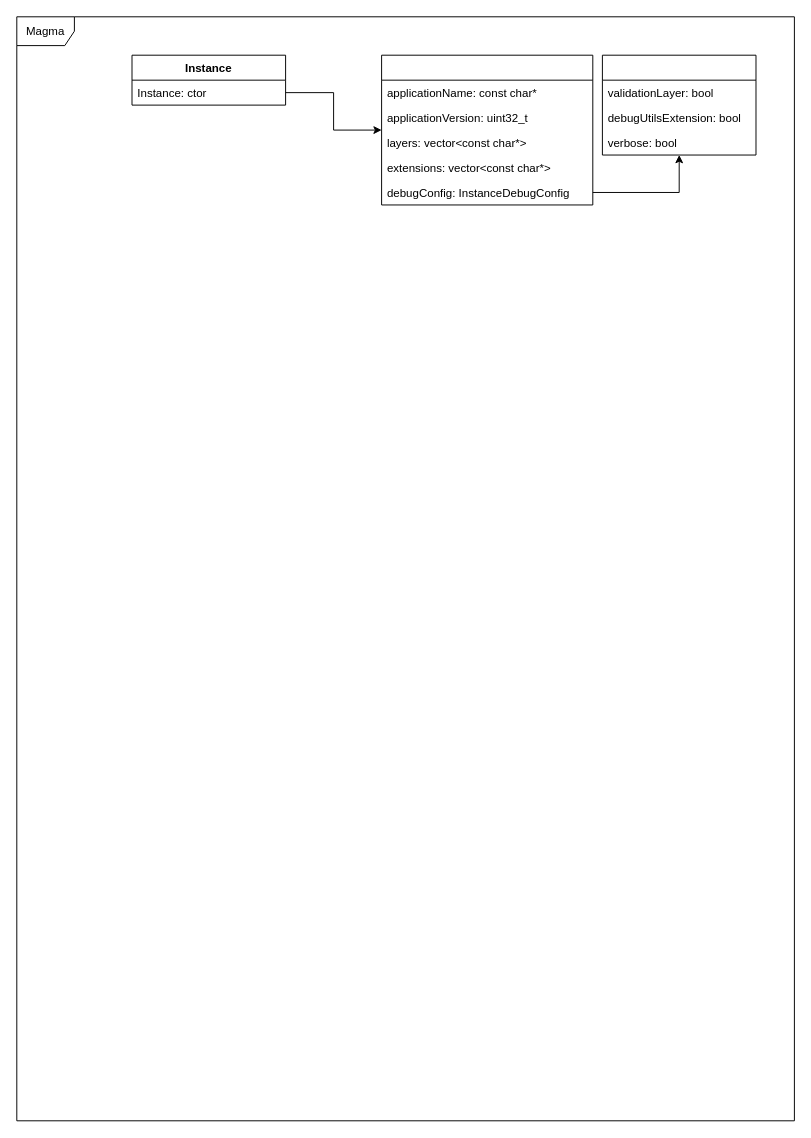
The diagram is 811 pixels wide and 1138 high, and some of its shapes have lost their labels. The box of each missing label's shape, as (x1, y1, x2, y2) in pixels:
InstanceCreateInfo: (381, 54, 593, 205)
InstanceDebugConfig: (601, 54, 756, 155)
